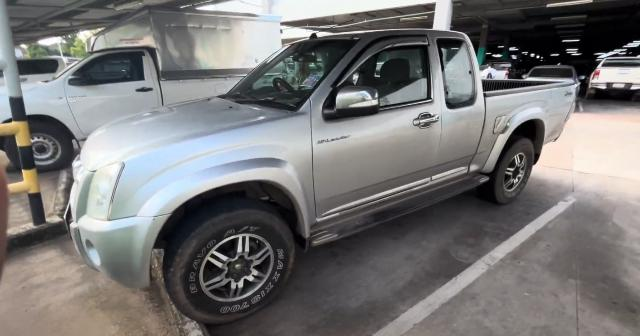pickup-truck: (72, 30, 575, 327)
